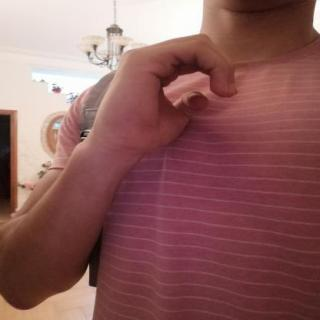JEEM: (81, 25, 251, 167)
